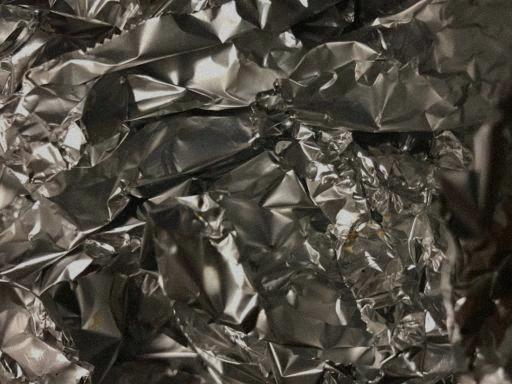metal: (0, 8, 512, 381)
